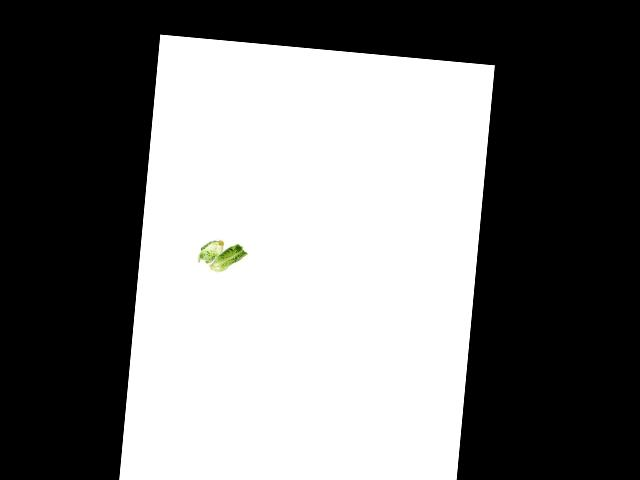lettuce: (196, 234, 226, 265)
